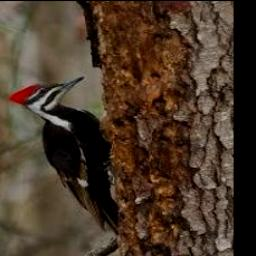Woodpecker: (10, 77, 120, 234)
